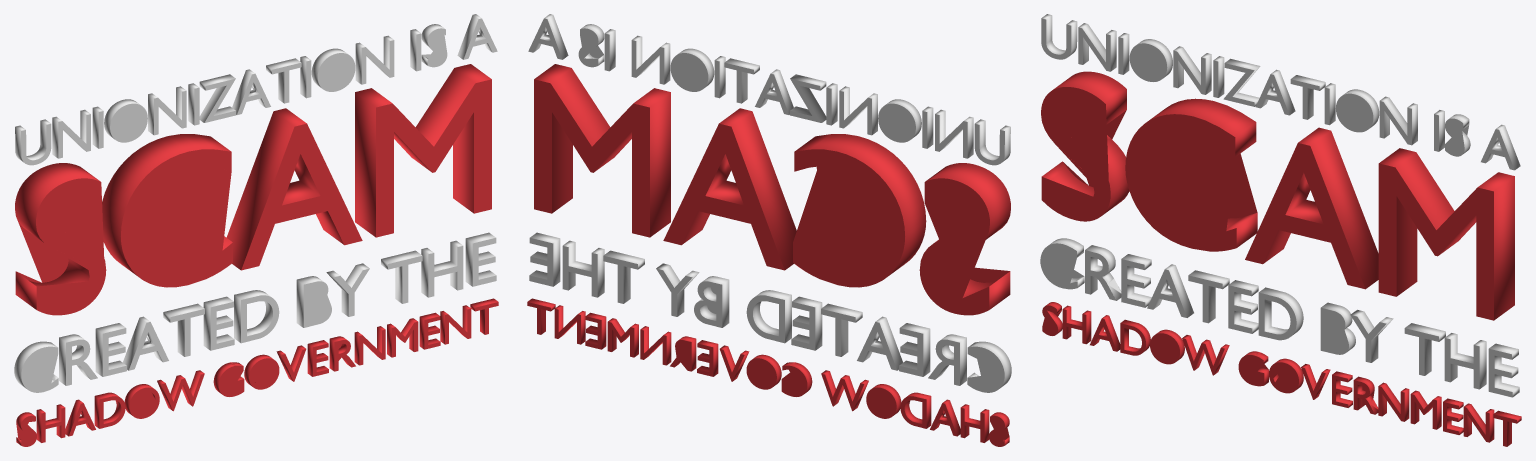
File: UnionizationIsAScam.fbx
The picture shows the model from 3 angles, left to right: view 1: azimuth 30°, elevation 25°; view 2: azimuth 150°, elevation 25°; view 3: azimuth 330°, elevation 25°; orthographic projection.
Visible parts, largest first — view 1: sCAM, UNIONIZATION; view 2: sCAM, UNIONIZATION; view 3: sCAM, UNIONIZATION.
Boxes of the visible parts, <box> form: sCAM: <box>15,64,498,446</box>; UNIONIZATION: <box>14,14,497,392</box>; sCAM: <box>527,64,1010,446</box>; UNIONIZATION: <box>528,14,1011,392</box>; sCAM: <box>1041,71,1521,446</box>; UNIONIZATION: <box>1040,14,1520,397</box>.
Bounding box in the file's own units: 476 × 303 × 36.26.
